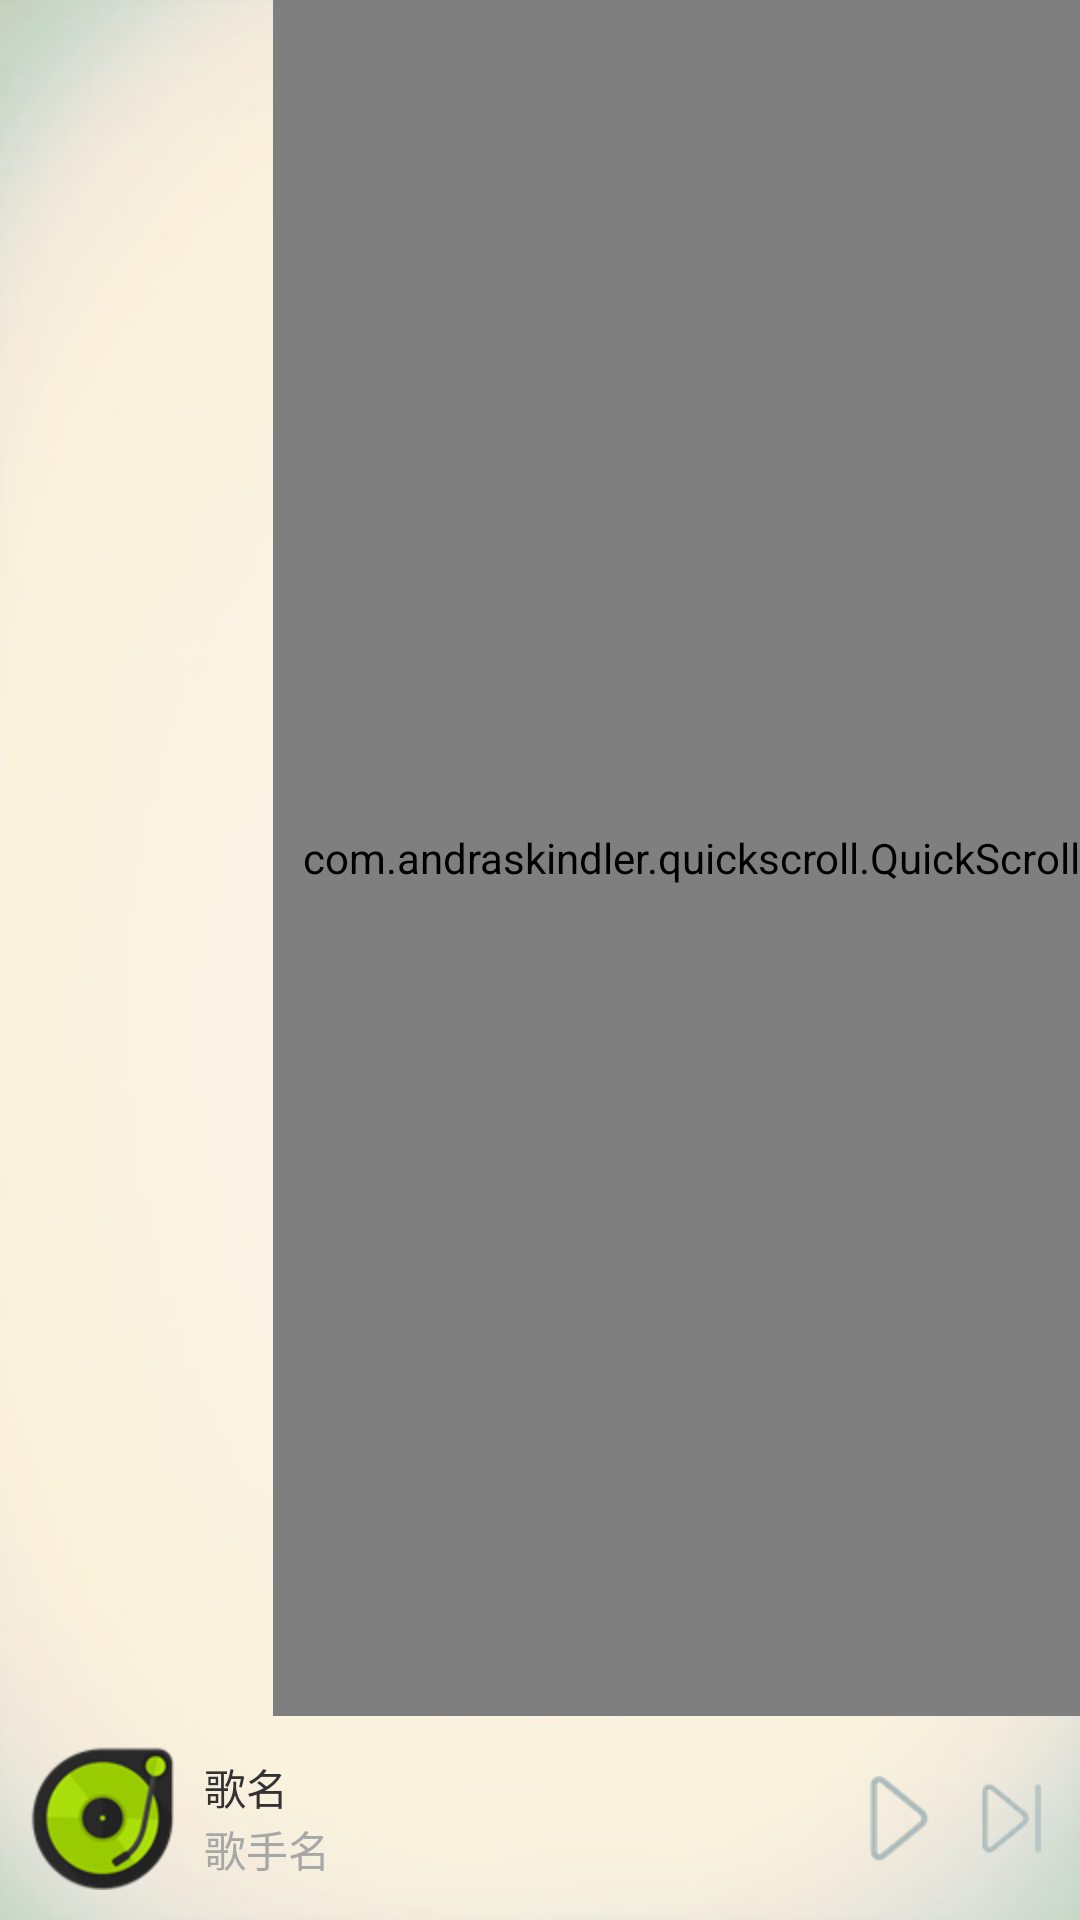

Screen size 1080w x 1920h. Icon name, then its box in pixels as bbox=(x1, y1, x2, y2):
next song: bbox=(982, 1785, 1041, 1853)
play: bbox=(870, 1776, 928, 1861)
